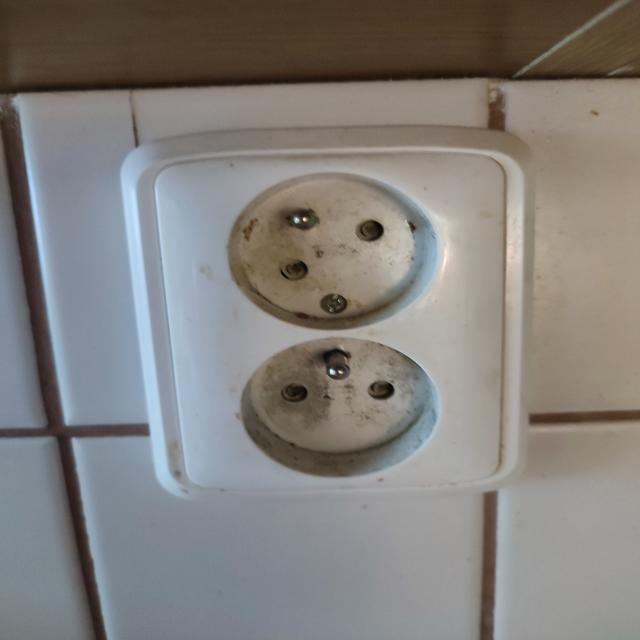house plug: (222, 160, 454, 334), (221, 334, 463, 482)
